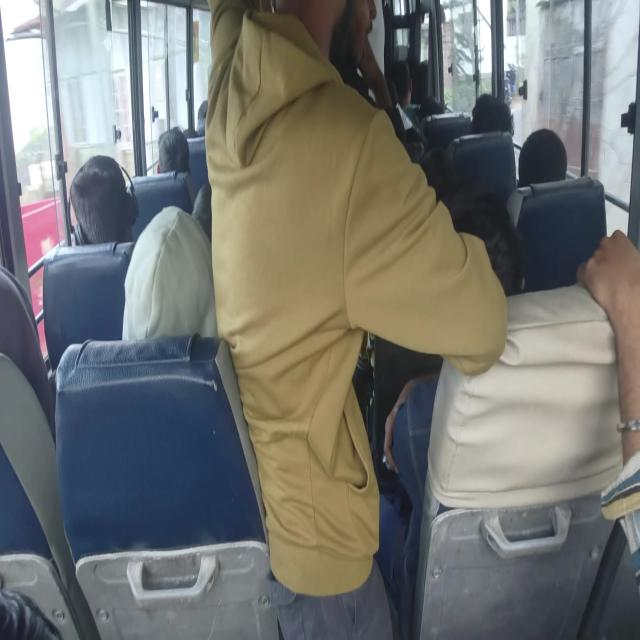person: (212, 1, 392, 507), (138, 223, 220, 340), (0, 271, 49, 424), (461, 206, 532, 309), (75, 166, 132, 244), (462, 78, 512, 142), (151, 131, 196, 199), (510, 131, 564, 182), (0, 601, 63, 640), (426, 136, 464, 180), (194, 99, 229, 145), (195, 176, 226, 224), (394, 54, 414, 112), (418, 92, 447, 119)
